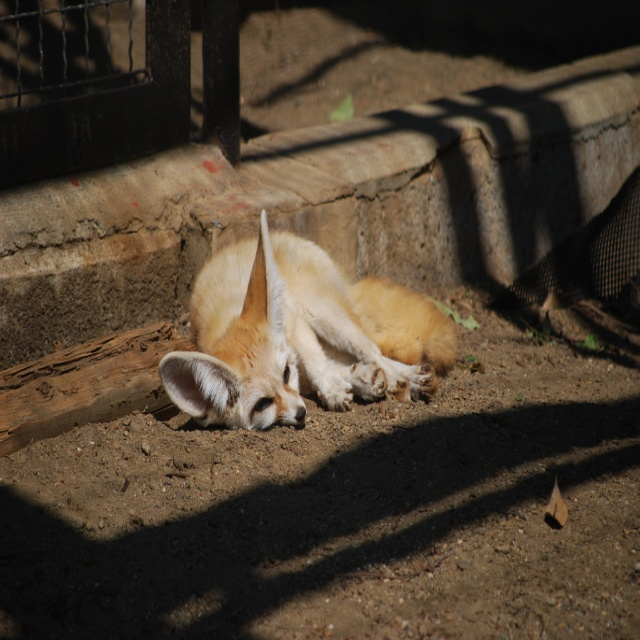Fox: (156, 206, 463, 430)
